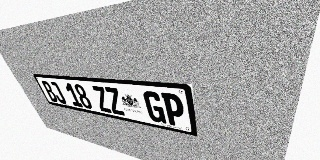1: (63, 83, 83, 107)
8: (73, 84, 93, 109)
B: (40, 81, 59, 103)
G: (142, 91, 167, 124)
J: (48, 81, 67, 104)
P: (161, 92, 186, 128)
Z: (103, 87, 126, 116), (91, 86, 113, 113)
